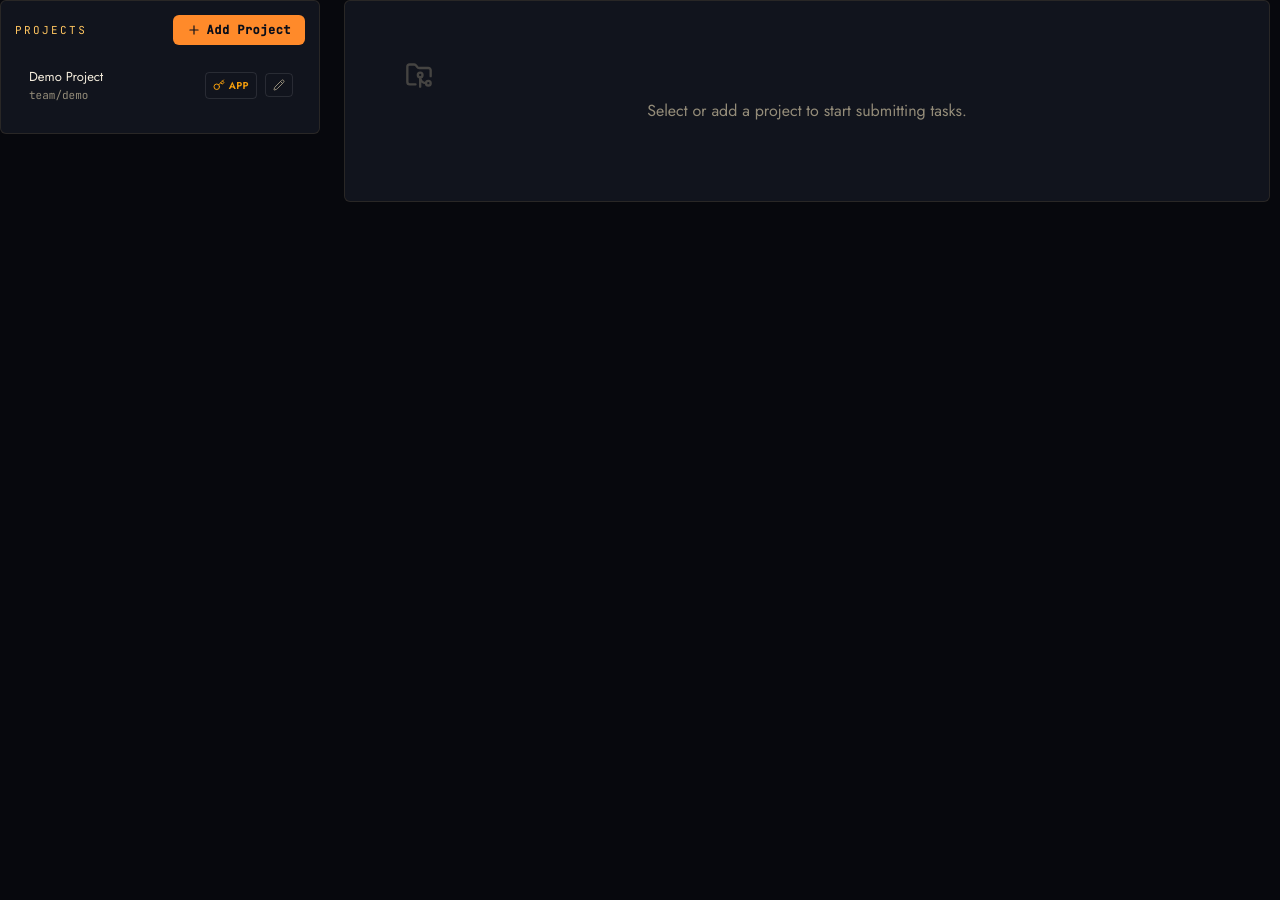
it: Ticket E-UI · full trend chart in project detail view › shows the real 'No history yet.' empty state in the detail view, never a fake chart
Click the element with test id "proj-row-p_1". click: (66, 76)
box: [15,57,305,113]
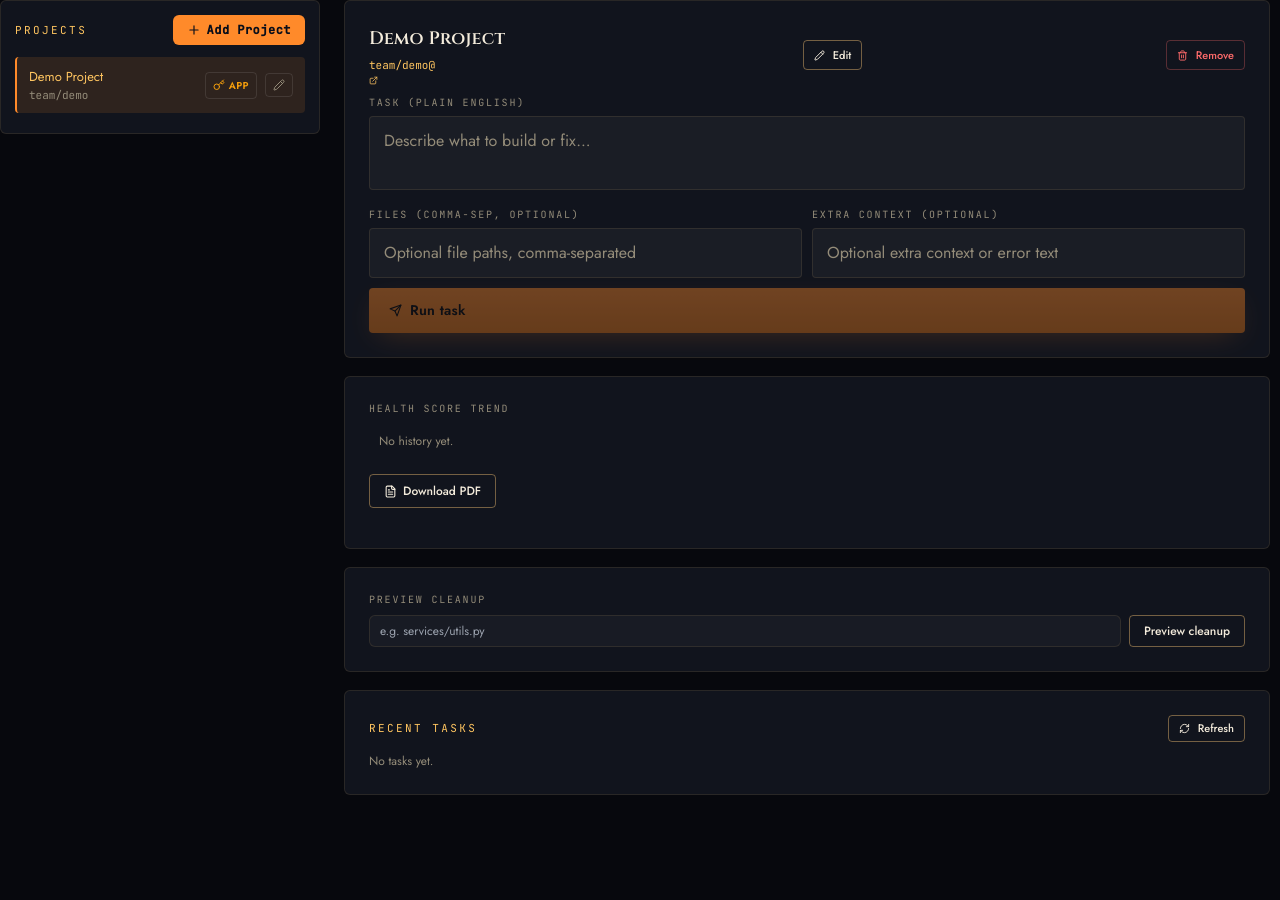
expect the element with test id "proj-detail-health-trend" is shown: met, box [344,376,1270,549]
expect the text with test id "proj-health-trend-empty" reads "No history yet.": met, box [379,432,453,450]
